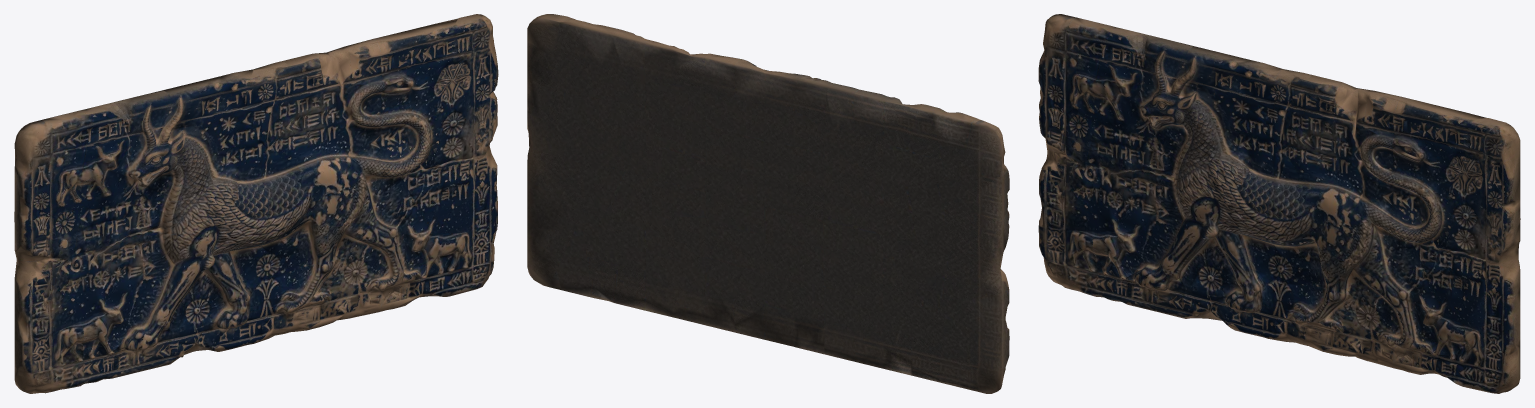
Rendered from babylon_chimera_relief_tile.glb.
3 views of the same model, side by side, from view 1: azimuth 30°, elevation 25°; view 2: azimuth 150°, elevation 25°; view 3: azimuth 330°, elevation 25° (orthographic).
Visible parts, largest first — view 1: mesh_node; view 2: mesh_node; view 3: mesh_node.
Part boxes in pixels (x1,y1,x2,y2): mesh_node: [14, 14, 498, 393]; mesh_node: [527, 14, 1009, 393]; mesh_node: [1038, 14, 1520, 393].
Size of the model in its own units: 1.9 by 1.03 by 0.1157.
Materials: 1 (1 with a texture image).
